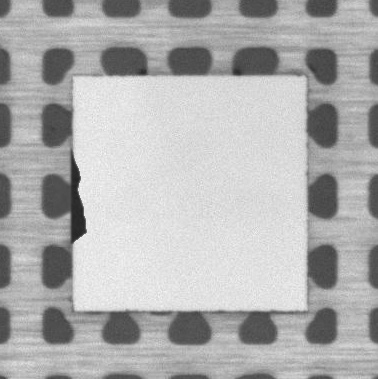DIE_BROKEN: (68, 150, 89, 244)
